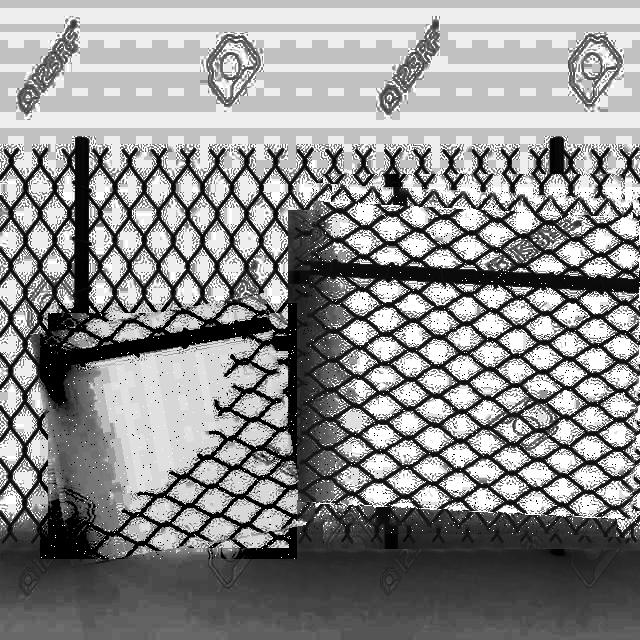anomaly-fence: (40, 303, 297, 559)
fences: (300, 187, 640, 534)
